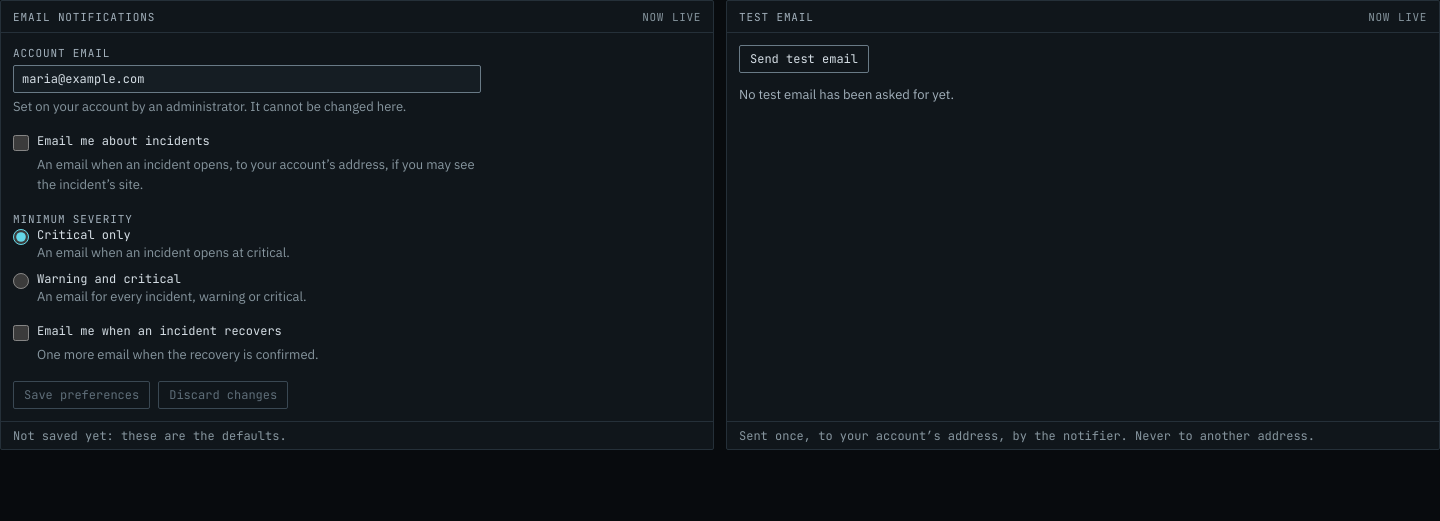
Scenario: saving the preferences › goes back to Save when a saved form is changed again, and drops the saved notice
Click the checkbox labelled "Email me about incidents".
click(21, 143)  # box top-left (13, 135), bottom-right (29, 151)
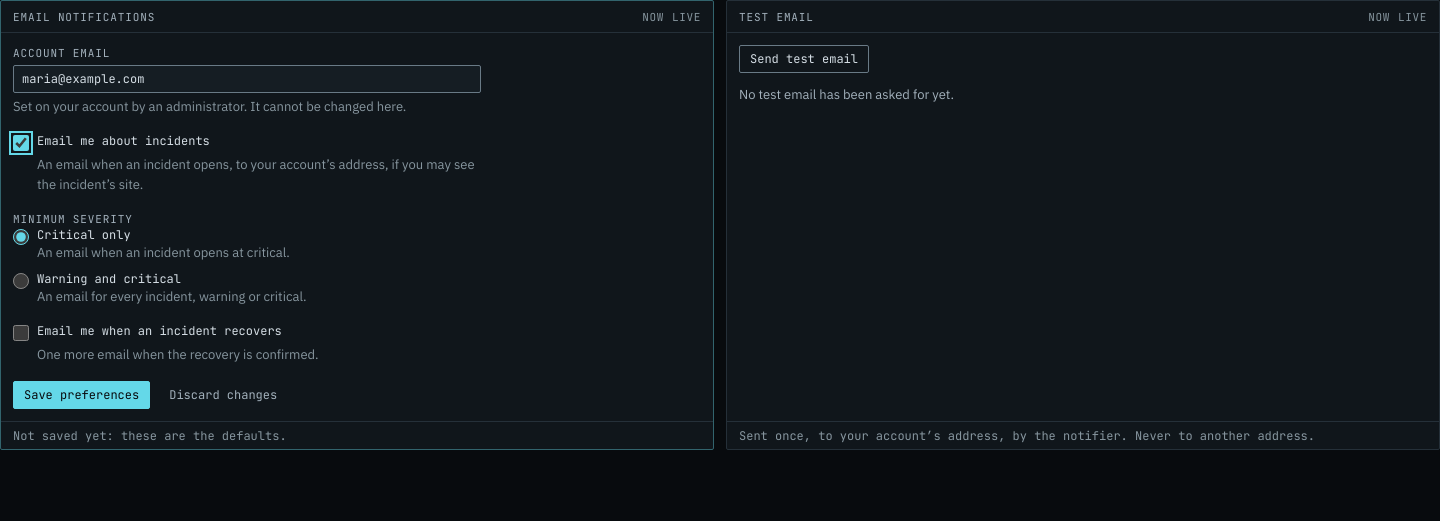
Click the button "Save preferences".
click(82, 395)  # box top-left (13, 381), bottom-right (150, 409)
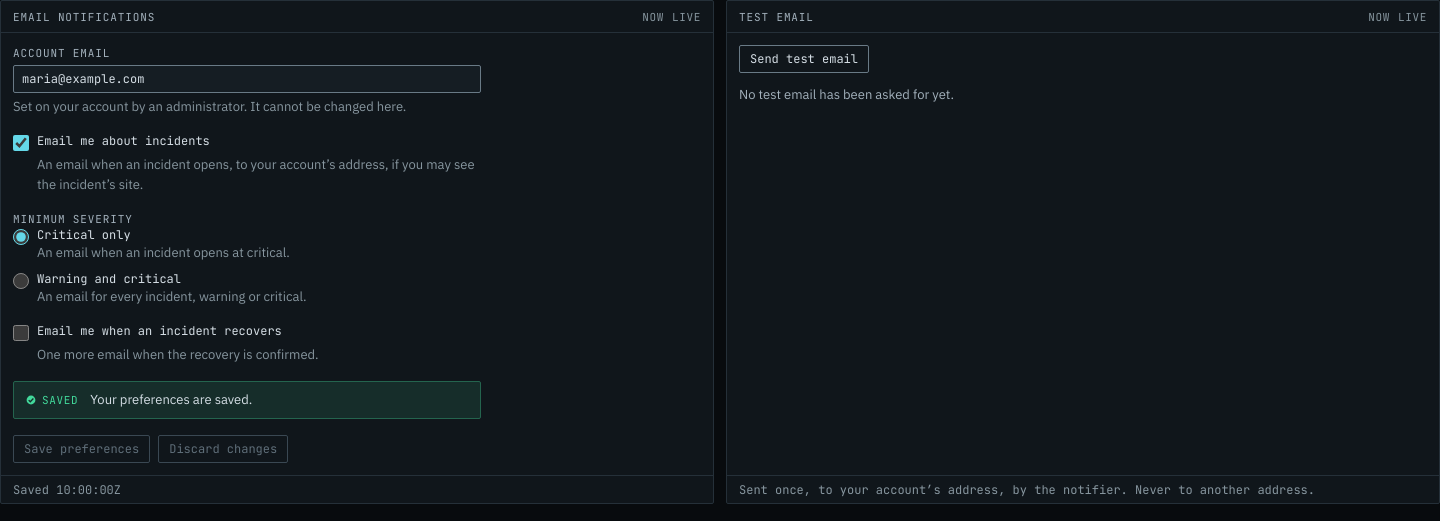
Expected: the text "Your preferences are saved." is shown, top-left (90, 391), bottom-right (252, 408)
Click the checkbox labelled "Email me when an incident recovers".
click(21, 333)  # box top-left (13, 325), bottom-right (29, 341)
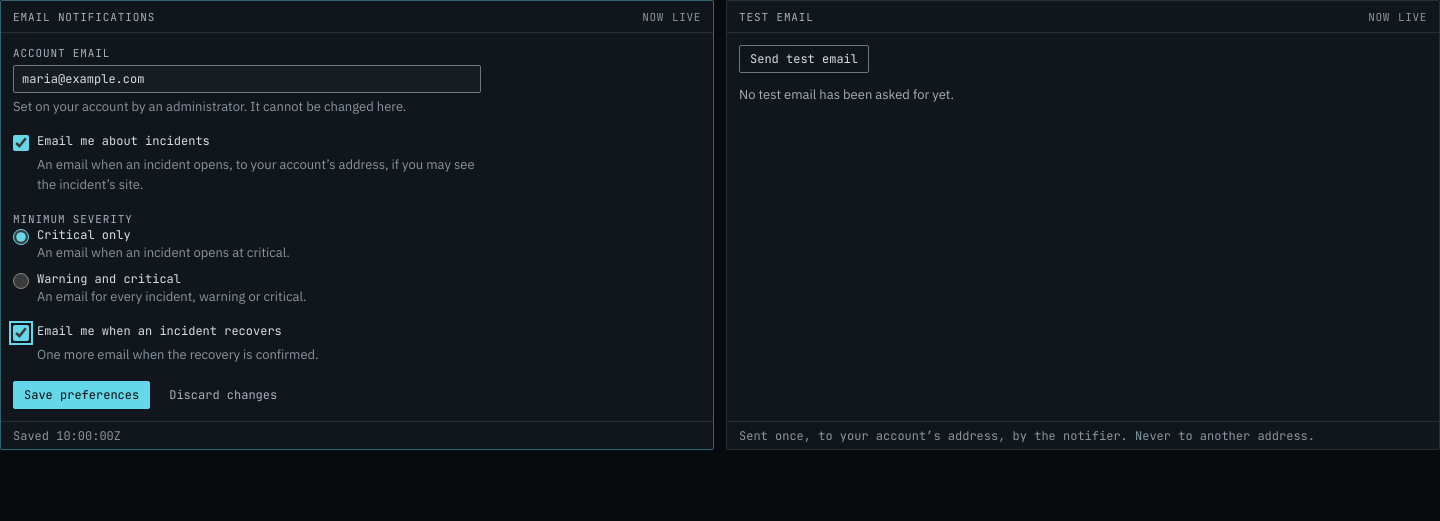
Expected: the text "Your preferences are saved." is gone
Expected: the button "Save preferences" is enabled, top-left (13, 381), bottom-right (150, 409)
